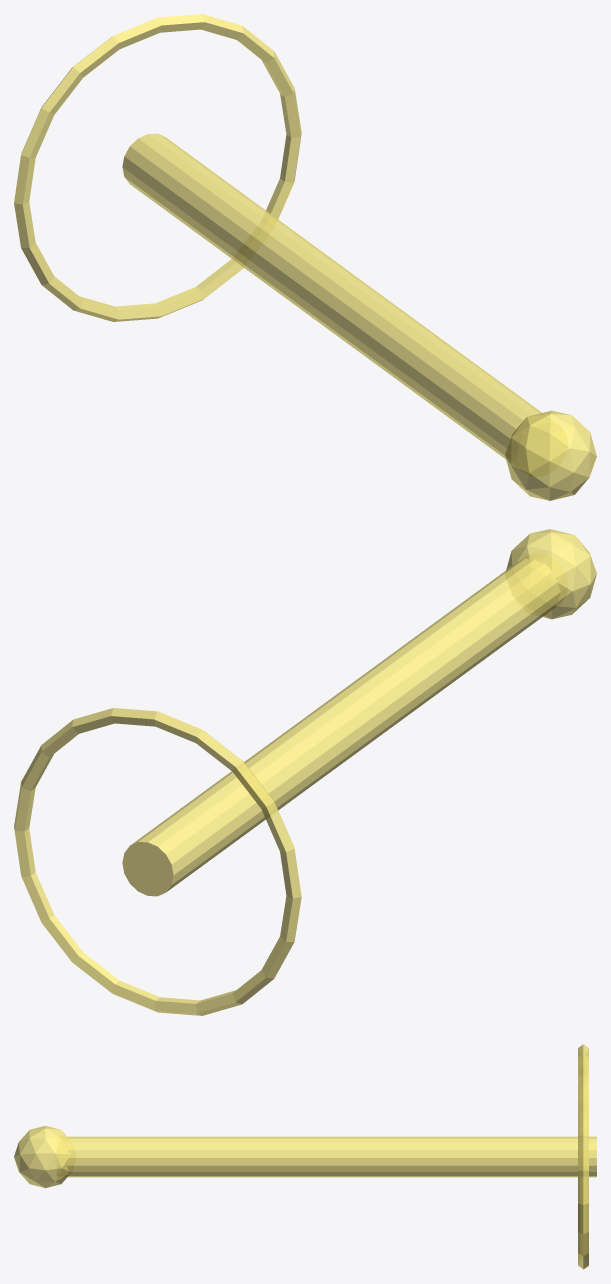
Rendered from loot_beam_mythic.glb.
The picture shows the model from 3 angles, top to bottom: view 1: azimuth 30°, elevation 25°; view 2: azimuth 150°, elevation 25°; view 3: azimuth 270°, elevation 25°; orthographic projection. The views are drawn at different scales.
Parts seen in each view (by area): view 1: beam, ground_ring, top_spark; view 2: beam, ground_ring, top_spark; view 3: beam, top_spark, ground_ring.
Part boxes in pixels (bbox=[...]): beam: bbox=[122, 133, 541, 459]; ground_ring: bbox=[14, 14, 301, 321]; top_spark: bbox=[505, 410, 596, 500]; beam: bbox=[122, 558, 560, 896]; ground_ring: bbox=[14, 708, 301, 1015]; top_spark: bbox=[506, 529, 596, 619]; beam: bbox=[67, 1136, 596, 1177]; top_spark: bbox=[14, 1125, 68, 1188]; ground_ring: bbox=[578, 1044, 588, 1269].
Bounding box in the file's own units: 1.01 × 1.01 × 2.59.
